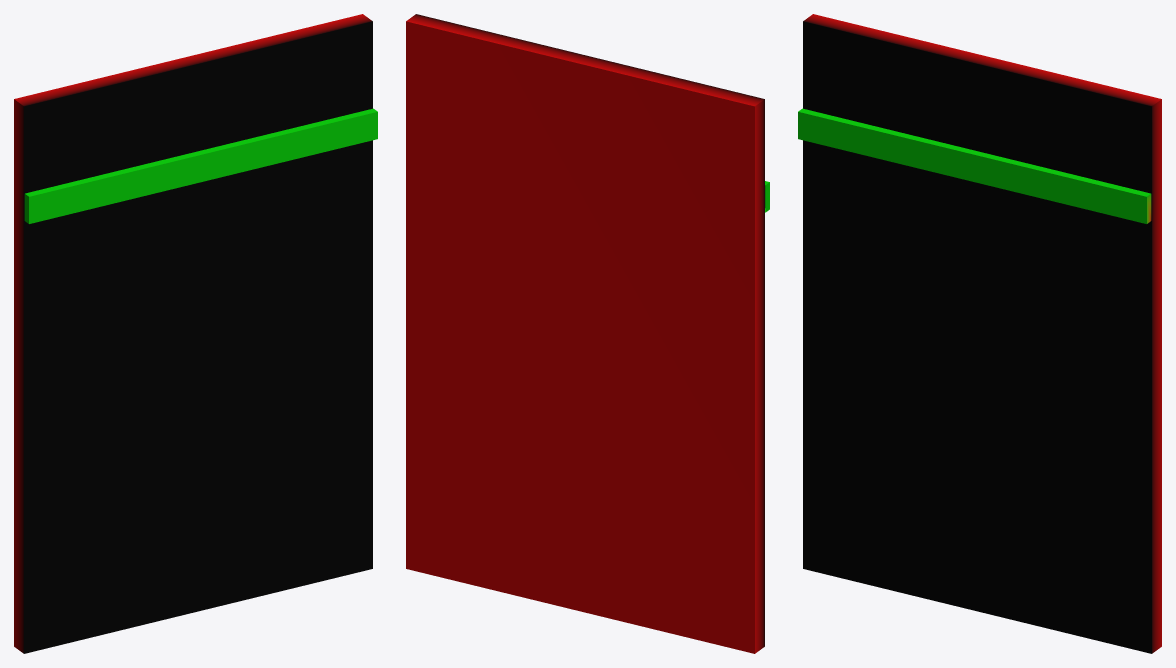
The model's file is FlatBaseWallUpper.fbx.
The picture shows the model from 3 angles, left to right: view 1: azimuth 30°, elevation 25°; view 2: azimuth 150°, elevation 25°; view 3: azimuth 330°, elevation 25°; orthographic projection.
Visible parts, largest first — view 1: FlatBaseWallUpper, FlatBaseWall; view 2: FlatBaseWallUpper; view 3: FlatBaseWallUpper, FlatBaseWall.
Boxes of the visible parts, box(x1,y1,x2,y2) form: FlatBaseWallUpper: box(14, 14, 372, 653); FlatBaseWall: box(24, 108, 377, 223); FlatBaseWallUpper: box(406, 14, 764, 653); FlatBaseWallUpper: box(803, 14, 1161, 653); FlatBaseWall: box(798, 108, 1151, 223).
Bounding box in the file's own units: 400 × 600 × 30.
